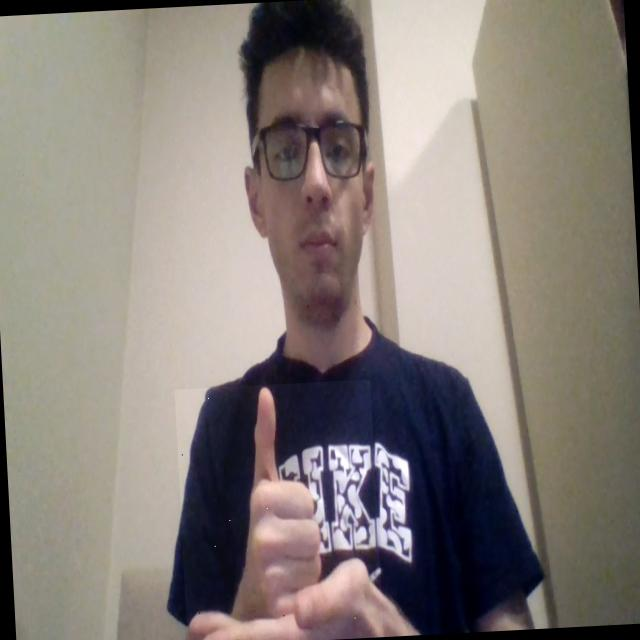help: (174, 379, 383, 640)
